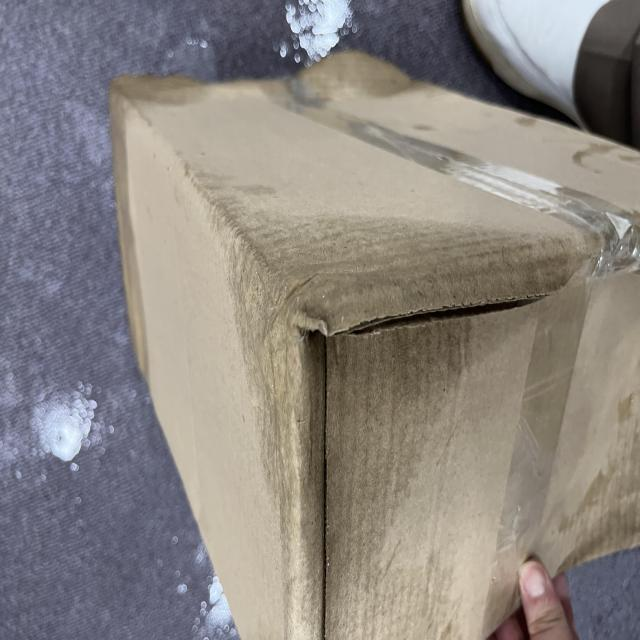wet: (90, 309, 355, 640)
